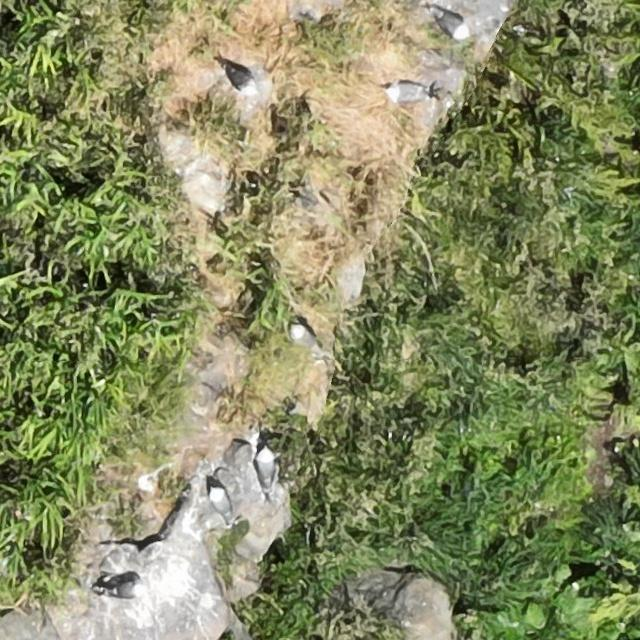umineko: (222, 64, 256, 95), (435, 12, 467, 37), (388, 84, 426, 102), (257, 451, 276, 487), (105, 580, 142, 598), (212, 489, 230, 520), (292, 326, 316, 349)
